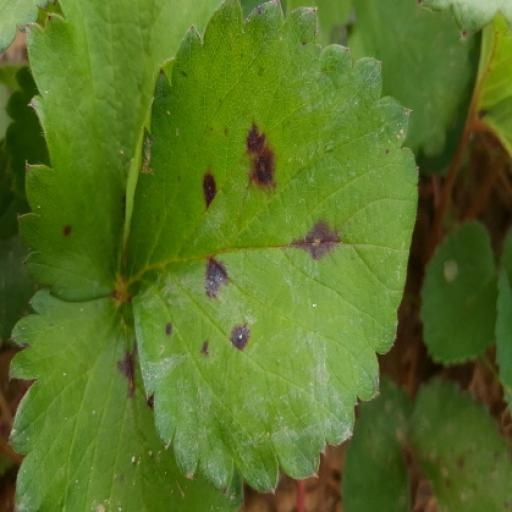Leaf Spot: (91, 0, 393, 494), (290, 0, 496, 303), (266, 289, 506, 511), (0, 376, 108, 511)
